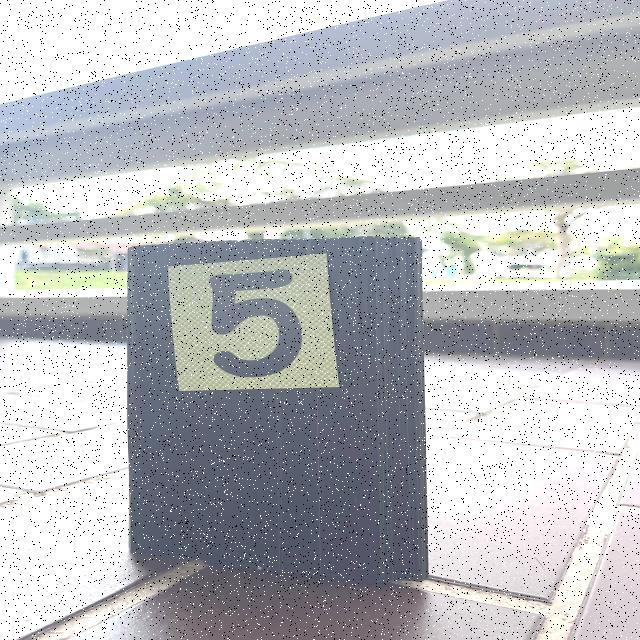five_id15: (173, 255, 340, 391)
